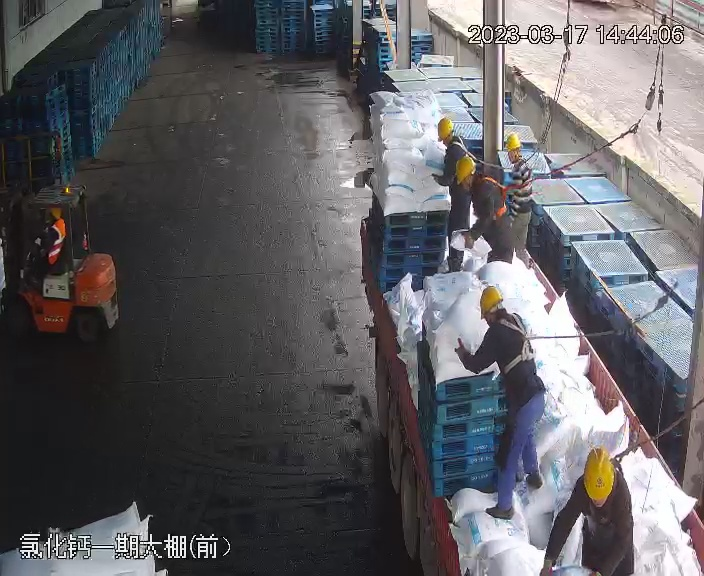belt: (493, 316, 541, 374), (606, 441, 652, 482), (472, 174, 514, 214), (509, 158, 538, 193), (446, 133, 473, 158)
head: (570, 452, 631, 523), (472, 285, 529, 351), (453, 156, 504, 200), (502, 133, 534, 178), (435, 118, 473, 155), (44, 207, 68, 235)
helmet: (582, 451, 615, 499), (477, 285, 505, 316), (453, 155, 476, 185), (436, 117, 454, 140), (504, 133, 522, 151), (49, 207, 63, 220)
people: (457, 285, 548, 519), (540, 448, 636, 576), (450, 155, 519, 269), (431, 116, 477, 262), (496, 133, 537, 264), (28, 206, 68, 280)
truck: (355, 123, 704, 573)
